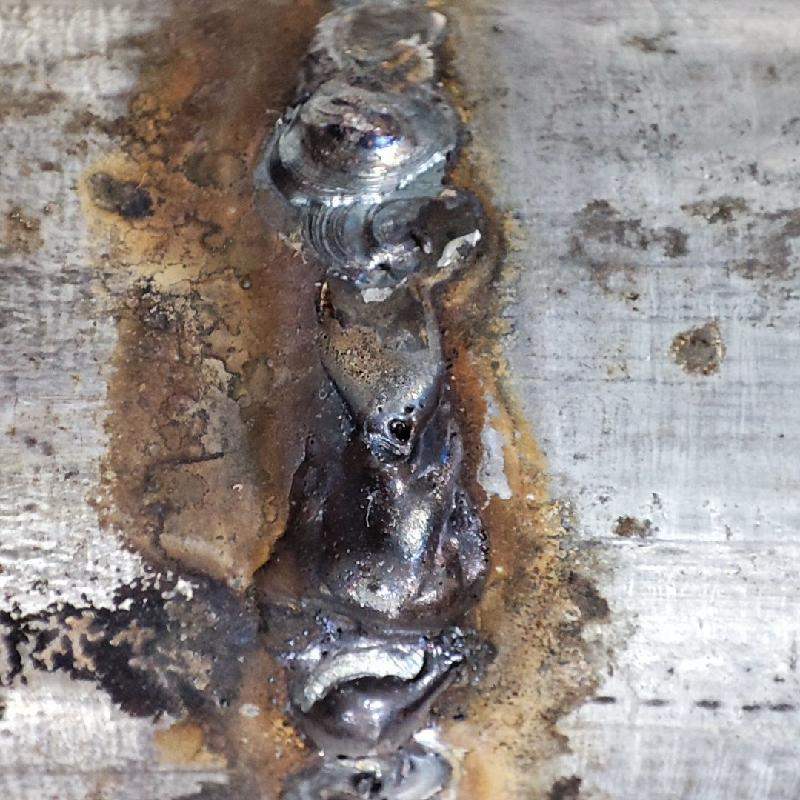Not_fully_soldered: (303, 200, 443, 449)
Surface_pores: (368, 391, 433, 446)
Weld: (254, 447, 484, 762)
